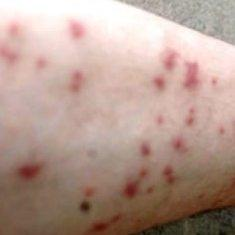Fleas: (14, 153, 44, 183), (88, 214, 123, 231), (65, 70, 89, 94), (183, 61, 200, 89), (159, 46, 179, 69), (147, 73, 169, 93), (67, 20, 88, 39), (78, 187, 93, 213), (0, 44, 18, 65), (160, 164, 176, 185), (169, 135, 185, 153), (6, 21, 23, 36), (183, 107, 196, 126), (123, 181, 138, 197), (138, 140, 151, 156), (36, 56, 49, 69), (157, 114, 164, 124), (219, 126, 227, 134)
